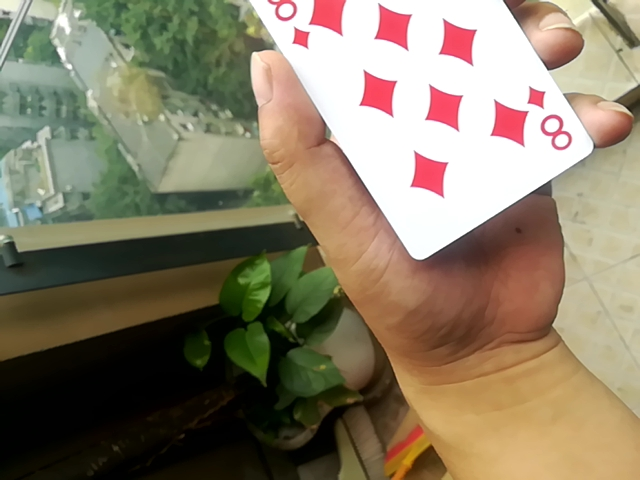fk 8: (242, 0, 585, 268)
